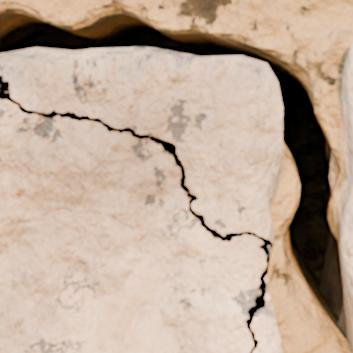brick: (0, 101, 265, 352), (0, 48, 282, 242), (338, 43, 352, 336), (252, 288, 281, 352)
crack: (0, 2, 352, 350), (0, 74, 273, 352)
